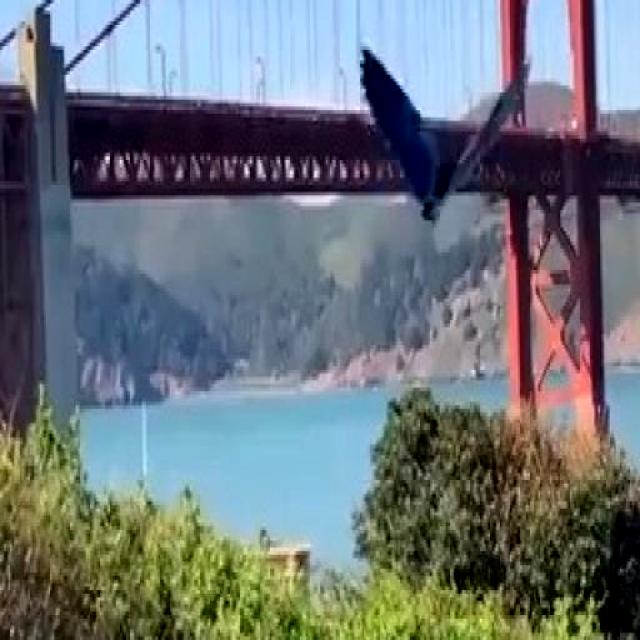airplane: (355, 36, 536, 235)
